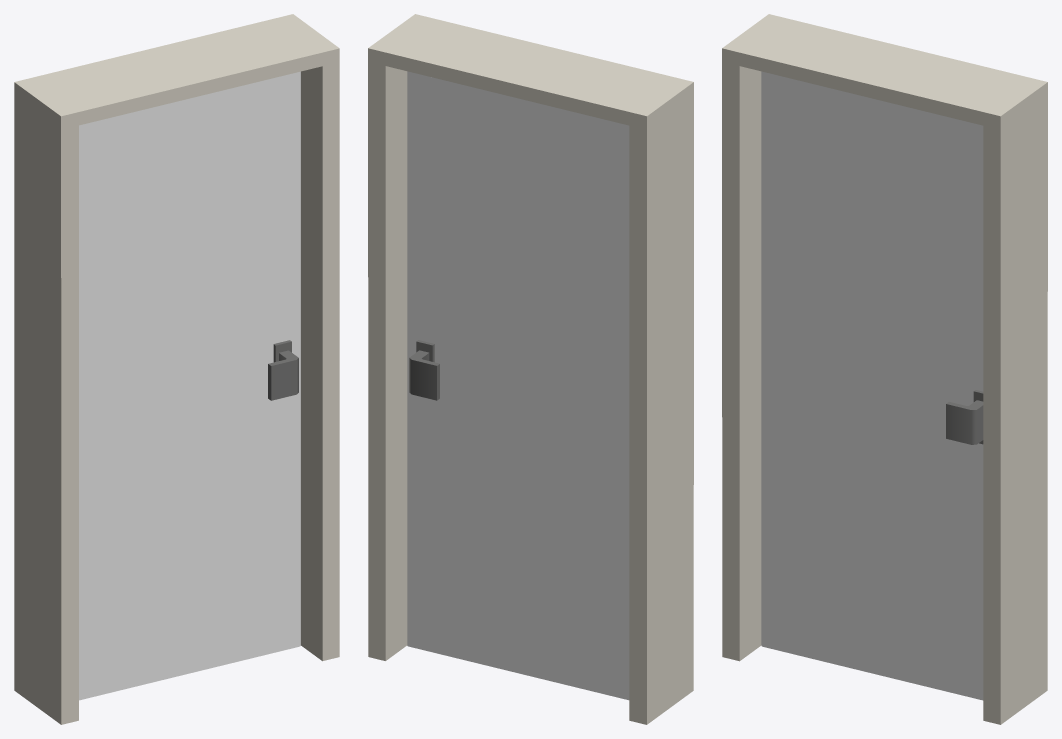
The model's file is Door_02.fbx.
3 renders of one model, left to right at view 1: azimuth 30°, elevation 25°; view 2: azimuth 150°, elevation 25°; view 3: azimuth 330°, elevation 25°, orthographic.
Parts seen in each view (by area): view 1: Door_02, Door_02_Frame; view 2: Door_02, Door_02_Frame; view 3: Door_02, Door_02_Frame.
Boxes of the visible parts, x1=… form: Door_02: x1=79, y1=71, x2=300, y2=700; Door_02_Frame: x1=14, y1=14, x2=339, y2=724; Door_02: x1=407, y1=71, x2=629, y2=700; Door_02_Frame: x1=368, y1=14, x2=693, y2=724; Door_02: x1=761, y1=71, x2=983, y2=700; Door_02_Frame: x1=722, y1=14, x2=1047, y2=724.
Size of the model in its own units: 1.03 by 2.15 by 0.3.
